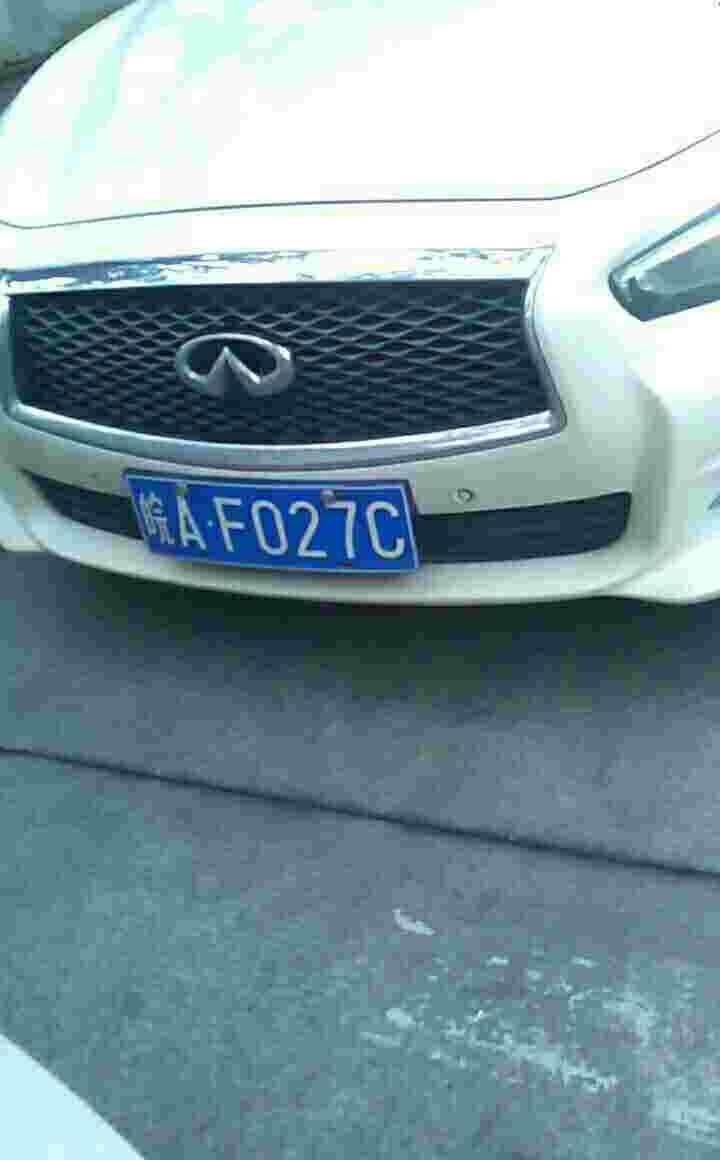license_plate: (123, 476, 418, 586)
